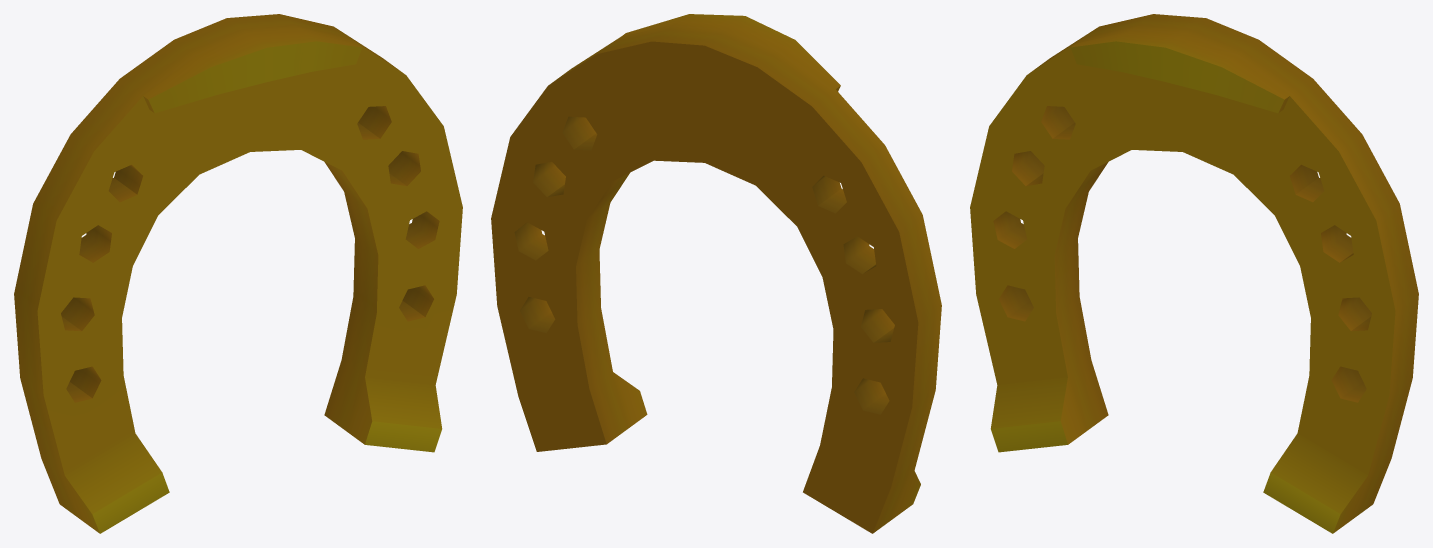
Rendered from horseshoe.glb.
The picture shows the model from 3 angles, left to right: view 1: azimuth 30°, elevation 25°; view 2: azimuth 150°, elevation 25°; view 3: azimuth 330°, elevation 25°; orthographic projection.
Parts seen in each view (by area): view 1: horseshoe; view 2: horseshoe; view 3: horseshoe.
Boxes of the visible parts, bbox=[...] form: horseshoe: bbox=[14, 14, 462, 533]; horseshoe: bbox=[491, 14, 941, 533]; horseshoe: bbox=[970, 14, 1418, 533].
Bounding box in the file's own units: 0.4985 × 0.4987 × 0.0822.
1 material, 1 textured.
